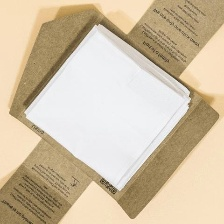tissue: (17, 18, 196, 196)
